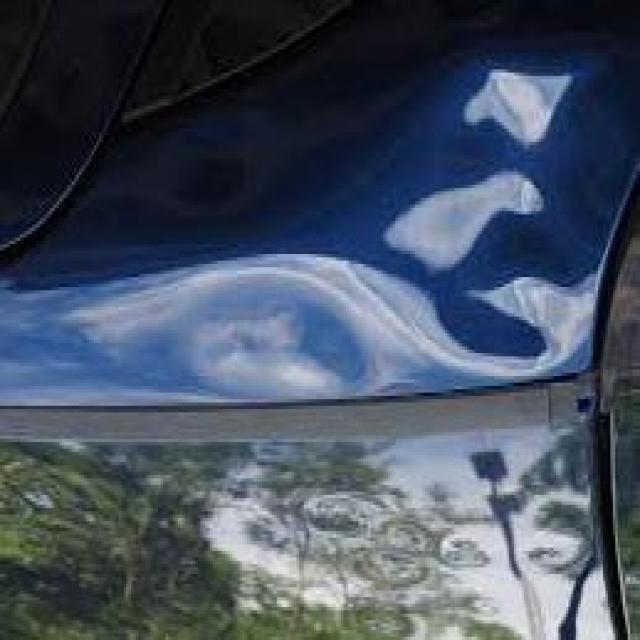dent: (165, 255, 412, 410)
